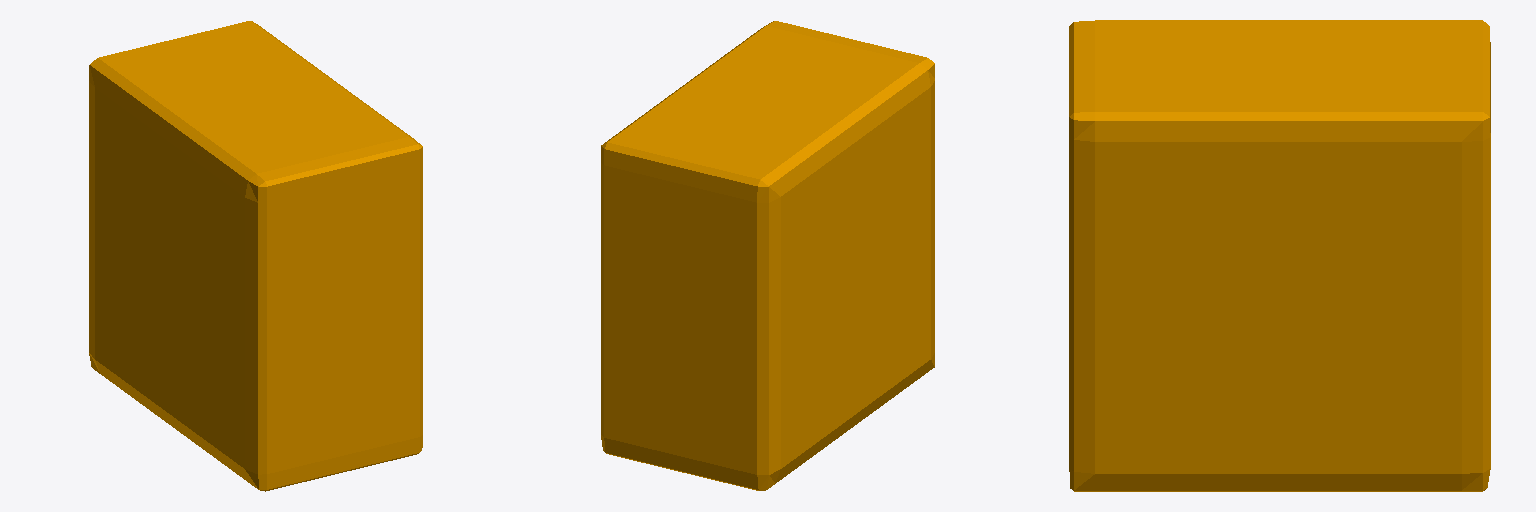
The robot description file, URDF, robot "cylinder_box_68":
<?xml version="1.0" encoding="utf-8"?>  <robot name="cylinder_box_68">   <link name="cylinder_box_68">     <visual>       <geometry>         <mesh filename="../meshes/box/box_68.stl" scale="1 1 1"/>       </geometry>     </visual>     <collision>       <geometry>         <mesh filename="../meshes/box/box_68.stl" scale="1 1 1"/>       </geometry>     </collision>     <inertial>        <origin         xyz="0 0 0"         rpy="0 0 0" />       <mass value="0.5343057004777071"/>       <origin rpy="0 0 0" xyz="0 0 0"/>       <inertia ixx="0.0008405357408131735" ixy="-3.687060420060945e-08" ixz="-2.2146263049426142e-08" iyy="0.0005589305664662636" iyz="-2.6058262606995446e-07" izz="0.0005629932741744195"/>     </inertial>   </link>  </robot>

--- Facts derived from the render (not from the file) ---
The picture shows the robot from 3 angles, left to right: view 1: azimuth 30°, elevation 25°; view 2: azimuth 150°, elevation 25°; view 3: azimuth 270°, elevation 25°; orthographic projection.
Robot: cylinder_box_68 — 1 links, 0 joints (none); root link cylinder_box_68; default pose: every joint at zero.
Visible links, largest first — view 1: cylinder_box_68; view 2: cylinder_box_68; view 3: cylinder_box_68.
Link boxes in pixels (x1,y1,x2,y2): cylinder_box_68: (89,21,422,491); cylinder_box_68: (601,21,934,490); cylinder_box_68: (1069,20,1490,491).
Size in the robot's own frame: 0.0566 by 0.0978 by 0.0973 metres.
1 mesh visuals loaded from 1 distinct referenced files (1 binary STL).